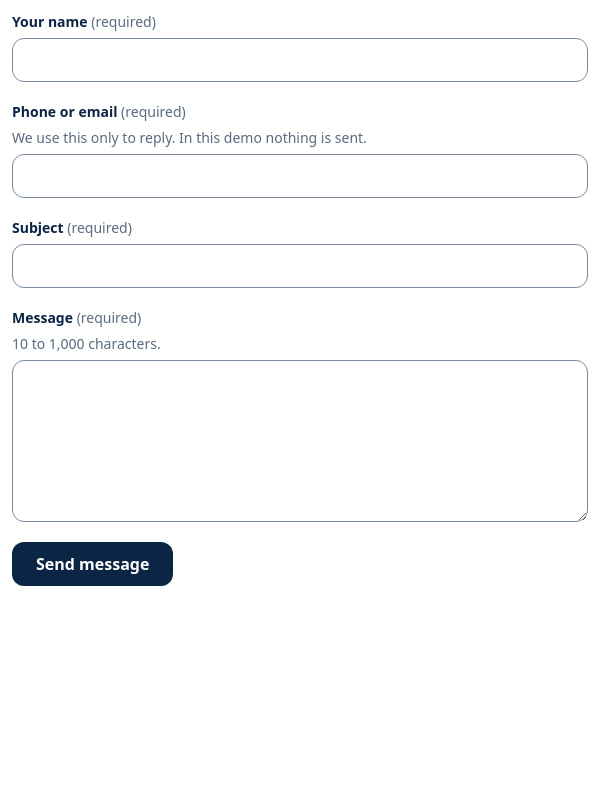
ContactForm › keeps what the visitor typed when there are errors, and describes an invalid phone or email
The width and height of the screenshot is (609, 809).
Type "Ayesha Khan" into the field labelled "Your name (required)". click: (300, 60)
box: [12,38,588,82]
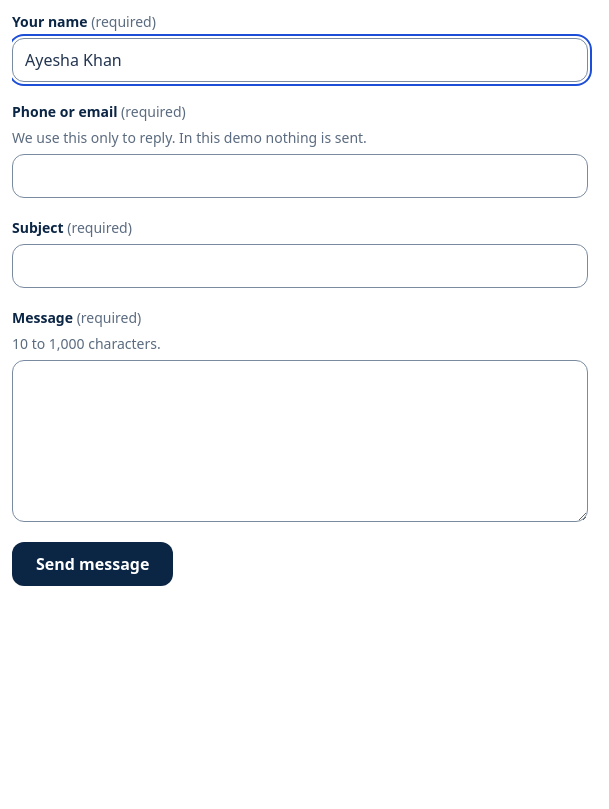
Type "not-a-contact" into the field labelled "Phone or email (required)". click: (300, 176)
box: [12,154,588,198]
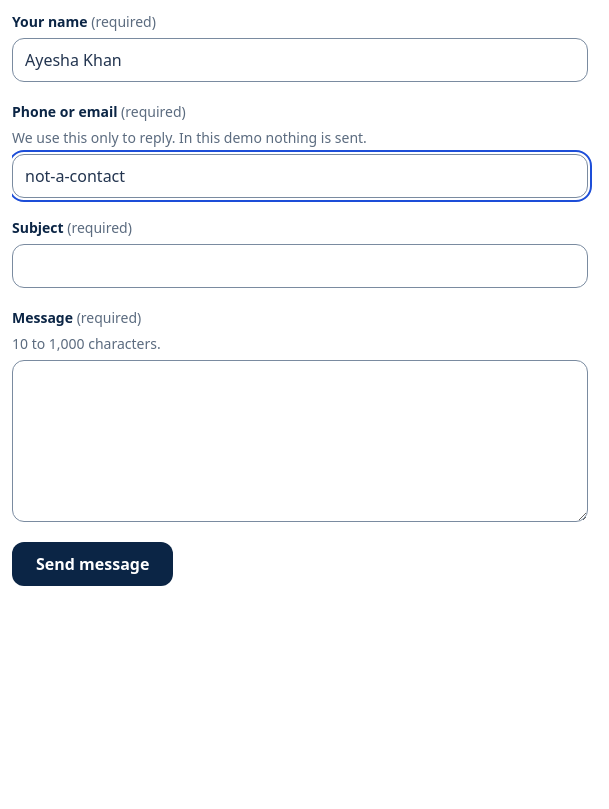
Type "short" into the text box labelled "Message (required)". click: (300, 441)
box: [12,360,588,522]
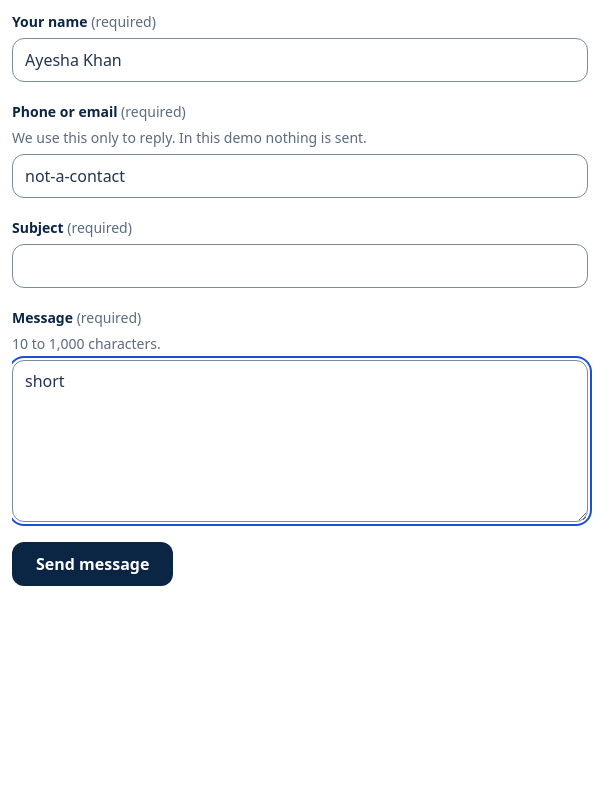
Click the button "Send message". click: click(93, 564)
box: [12,542,173,586]
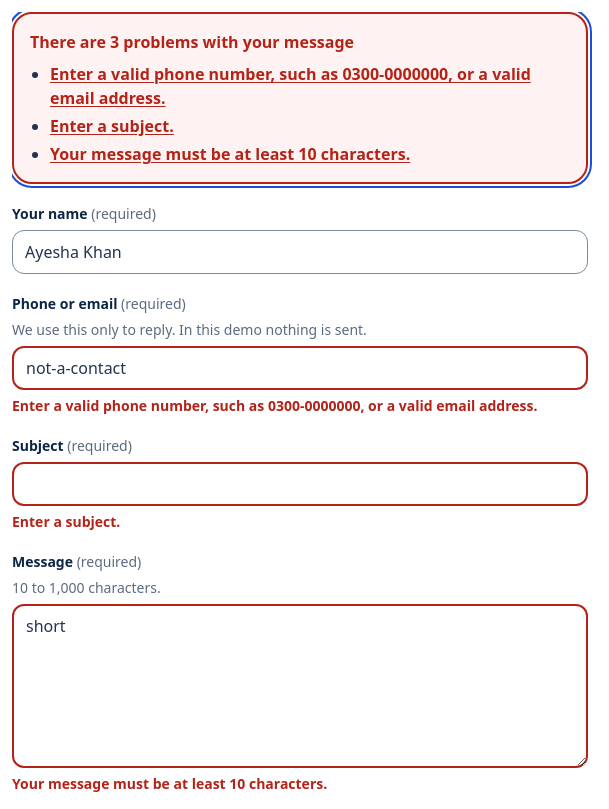
Result: the message shows "There are 3 problems with your message" at [30,31,354,53]
Result: the element with id "contact-error" shows "valid phone number" at [12,396,537,415]
